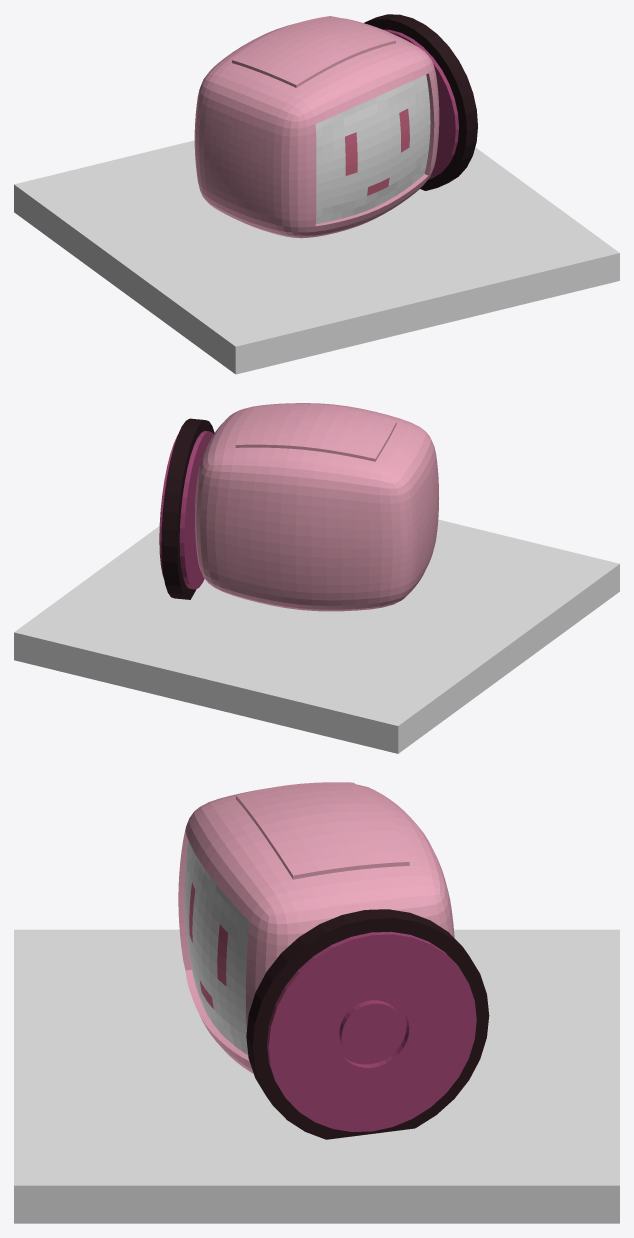
Rendered from bot.glb.
3 renders of one model, top to bottom at view 1: azimuth 30°, elevation 25°; view 2: azimuth 150°, elevation 25°; view 3: azimuth 270°, elevation 25°, orthographic. The views are drawn at different scales.
Visible parts, largest first — view 1: Plane, body, obrazovka, body.001, kolo; view 2: Plane, body, body.001, kolo; view 3: Plane, kolo, body, body.001, obrazovka.
Boxes of the visible parts, left/top/right/bottom form: Plane: left=14, top=140, right=619, bottom=374; body: left=194, top=18, right=439, bottom=238; obrazovka: left=315, top=75, right=430, bottom=224; body.001: left=232, top=16, right=395, bottom=87; kolo: left=364, top=14, right=477, bottom=190; Plane: left=14, top=519, right=619, bottom=753; body: left=195, top=403, right=439, bottom=611; body.001: left=235, top=404, right=396, bottom=461; kolo: left=159, top=418, right=214, bottom=599; Plane: left=14, top=929, right=619, bottom=1223; kolo: left=246, top=909, right=489, bottom=1139; body: left=178, top=784, right=454, bottom=1073; body.001: left=236, top=782, right=409, bottom=879; obrazovka: left=184, top=840, right=249, bottom=1054.
Size of the model in its own units: 5.58 by 2.86 by 5.58.
